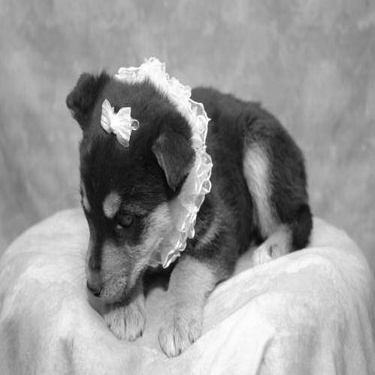dog: (59, 58, 318, 358)
